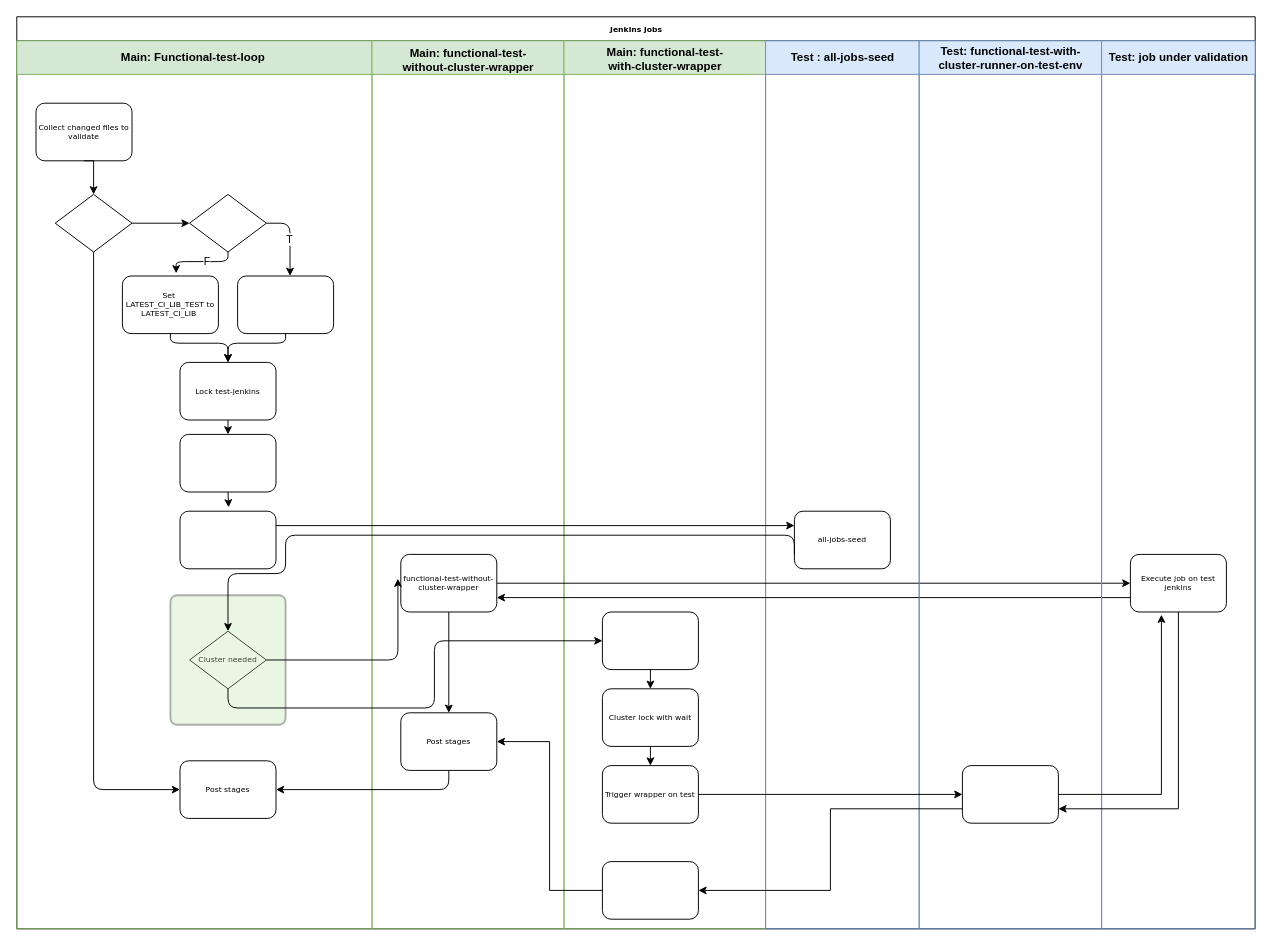
Some shapes in this 1272 by 946 pixel diagram are drawn without their labels. Each missing label, with the centre of its shape:
"Cleanup" goes at point 649,890.
"Create test branch" goes at point 227,462.
"For each" goes at point 227,659.
"functional-test-with-cluster-wrapper" goes at point 649,640.
"Init resources" goes at point 1009,794.
"not just .md" goes at point 93,222.
"seed jobs on test Jenkins" goes at point 227,539.
"Set LATEST_CI_LIB_TEST to new version" goes at point 285,304.
"Shared lib changed" goes at point 227,222.
